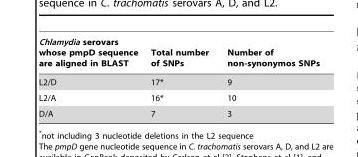table: (37, 37, 319, 117)
table column: (37, 37, 143, 117), (217, 37, 319, 117), (143, 37, 217, 117)
table column header: (37, 37, 319, 72)
table row: (37, 37, 319, 72), (37, 72, 319, 89), (37, 89, 319, 105), (37, 105, 319, 117)
